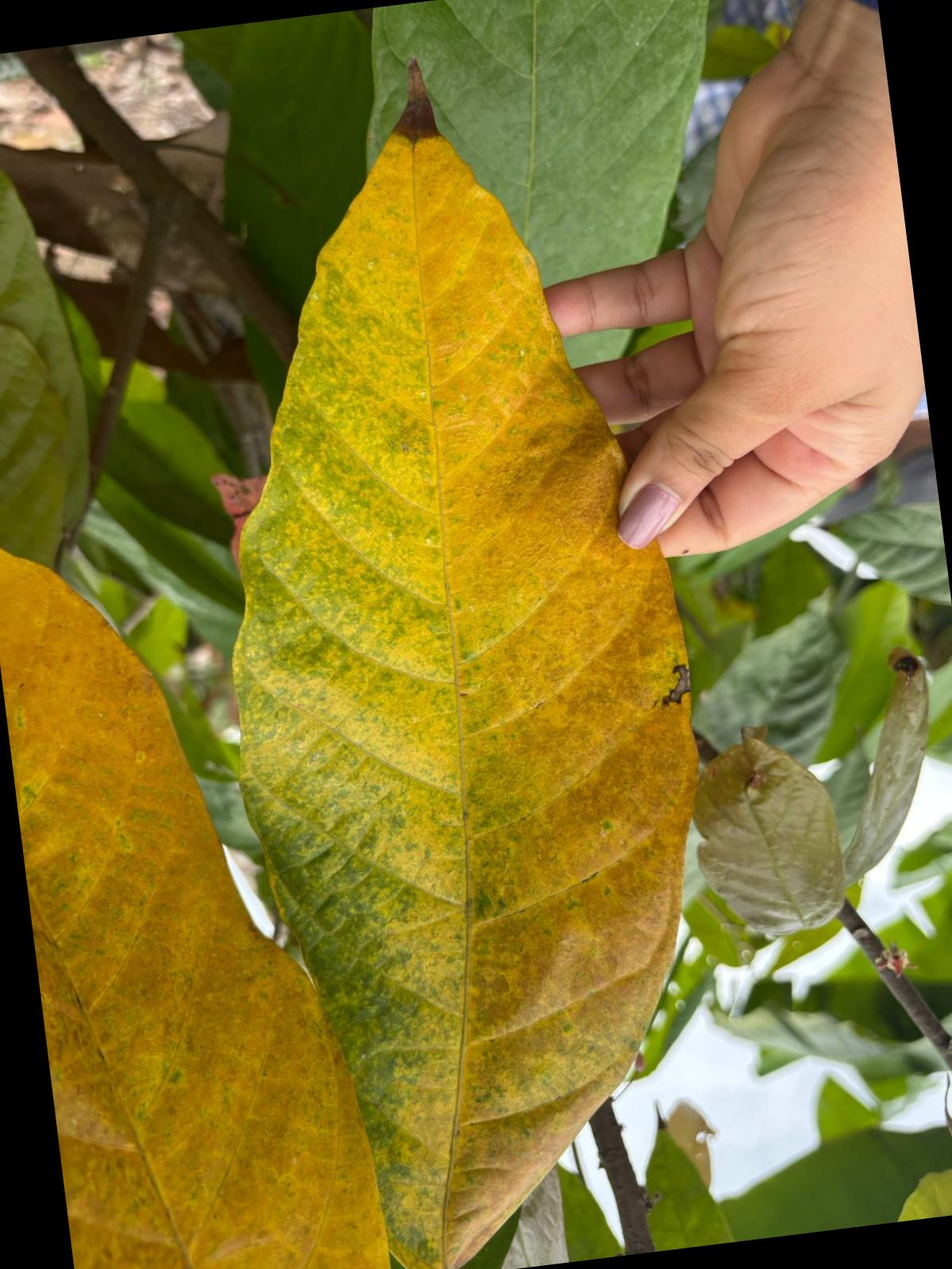Fosforo: (237, 71, 697, 1269)
